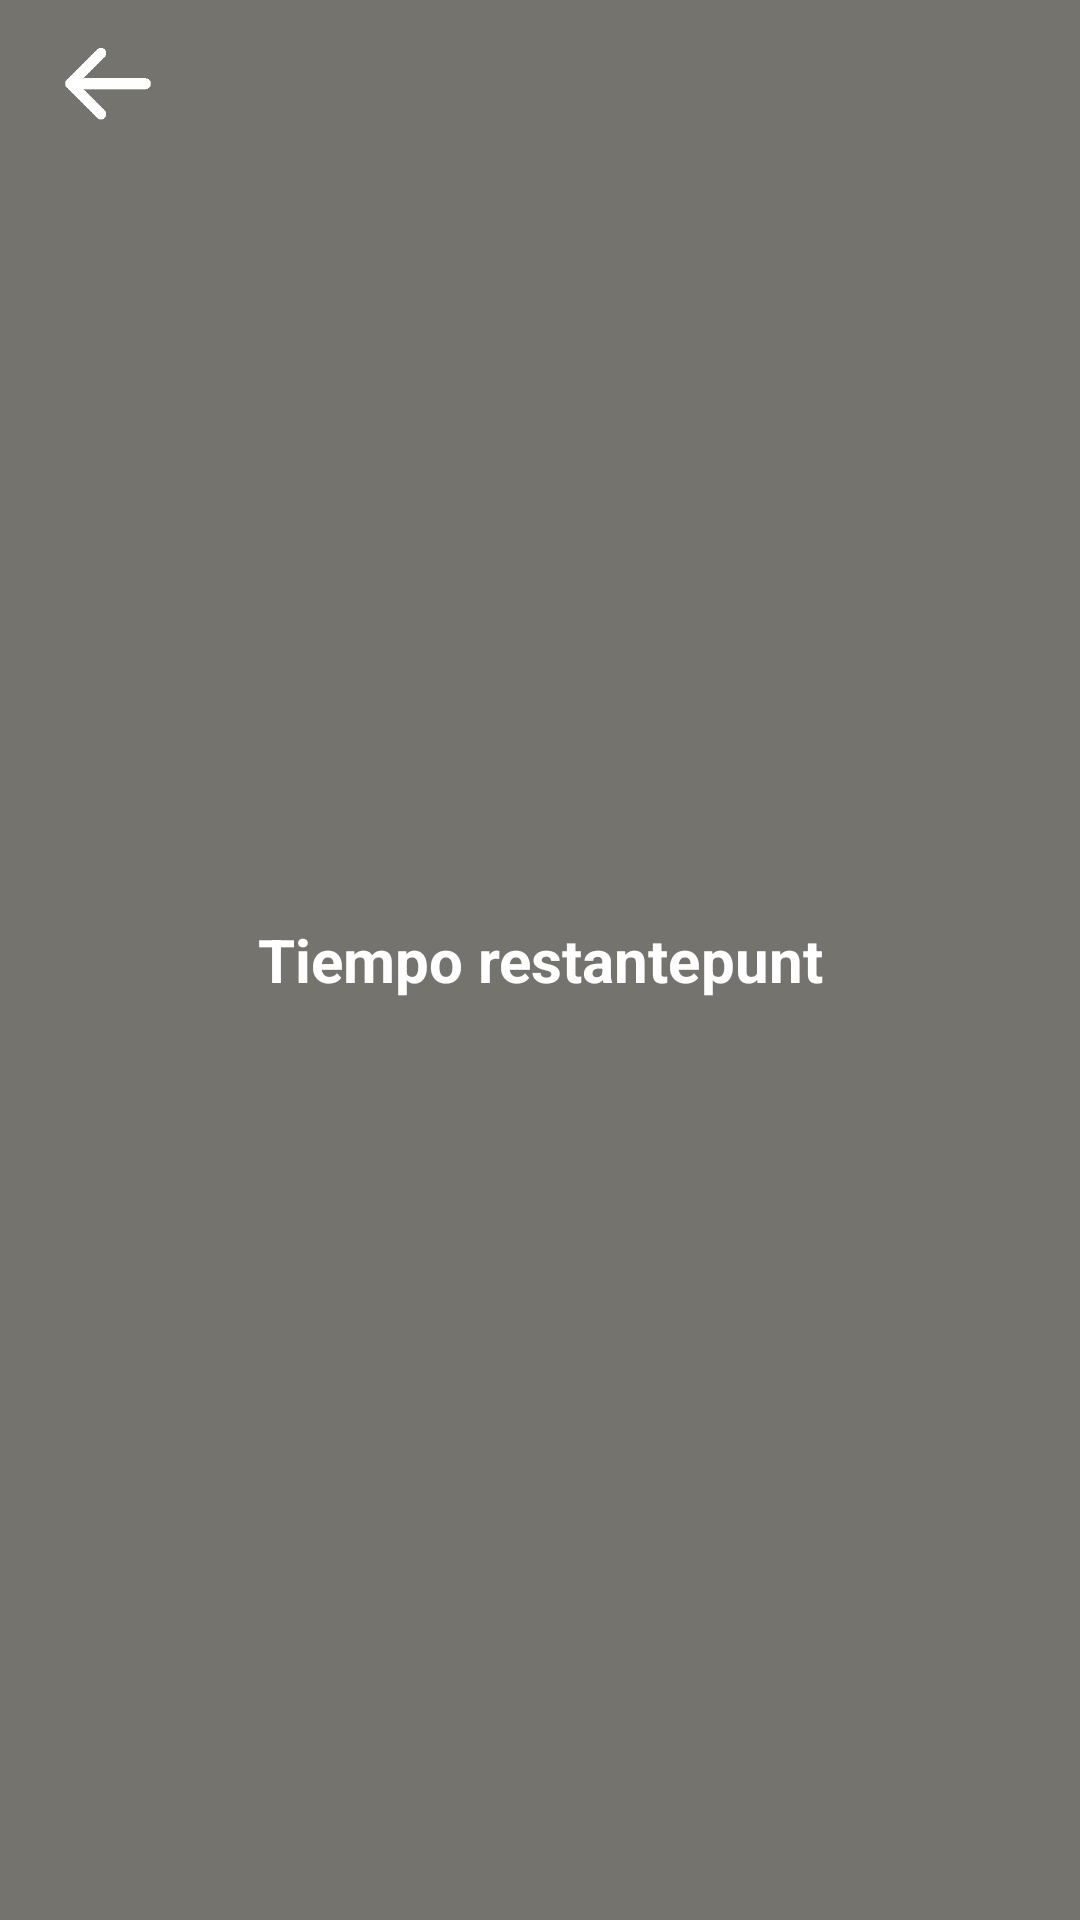

Icons on this 1080 x 1920 Android screen, each with the point to tap as point (x, y):
atras: point (108, 84)
